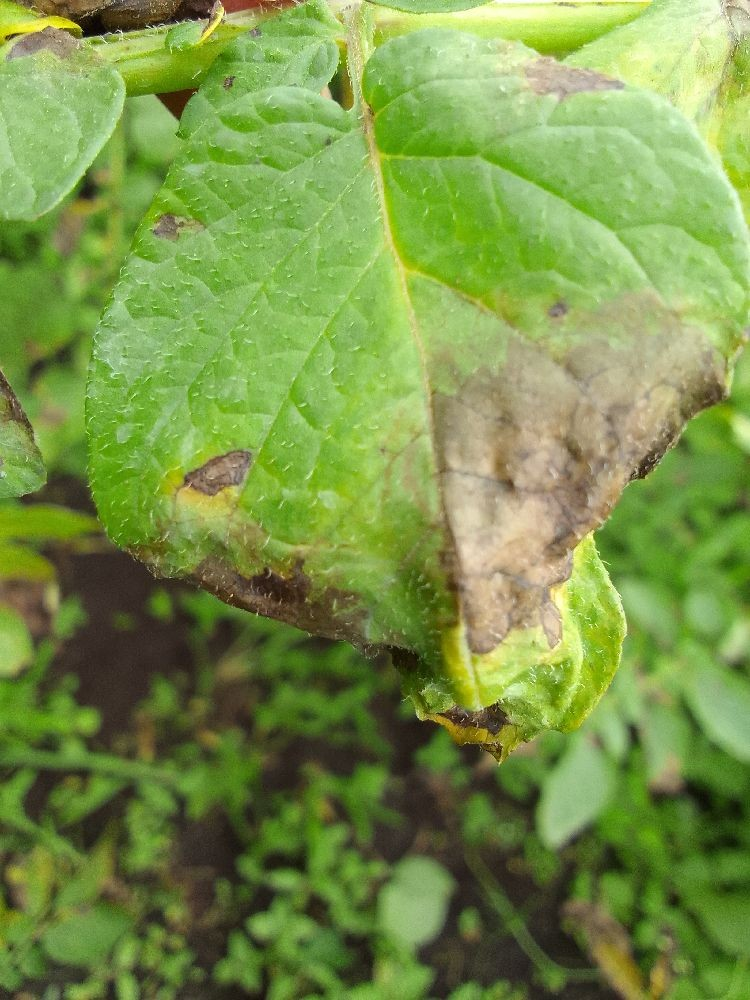late_blight: (0, 0, 339, 93), (0, 935, 134, 1000), (166, 441, 260, 513)
